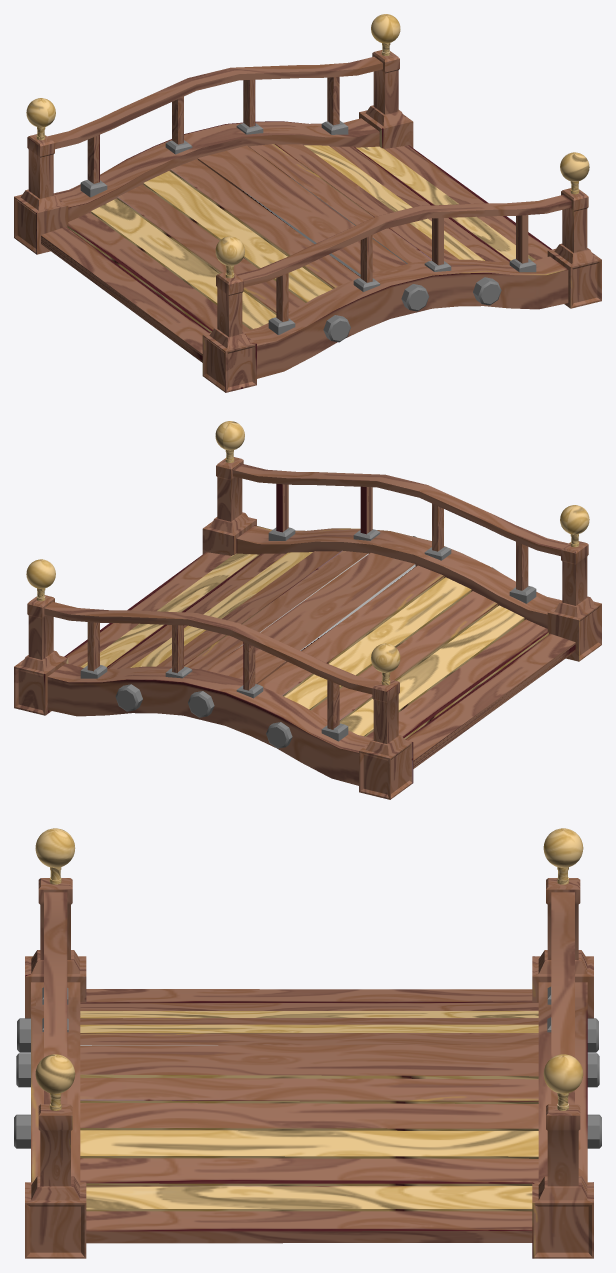
The model's file is bridge-fin1.glb.
3 renders of one model, top to bottom at view 1: azimuth 30°, elevation 25°; view 2: azimuth 150°, elevation 25°; view 3: azimuth 270°, elevation 25°, orthographic. The views are drawn at different scales.
Parts seen in each view (by area): view 1: Bridge; view 2: Bridge; view 3: Bridge.
Boxes of the visible parts, <box> form: Bridge: <box>14,14,601,392</box>; Bridge: <box>14,421,601,799</box>; Bridge: <box>14,828,601,1258</box>.
Size of the model in its own units: 5.12 by 1.86 by 5.16.
Materials: 2 (1 with a texture image).
